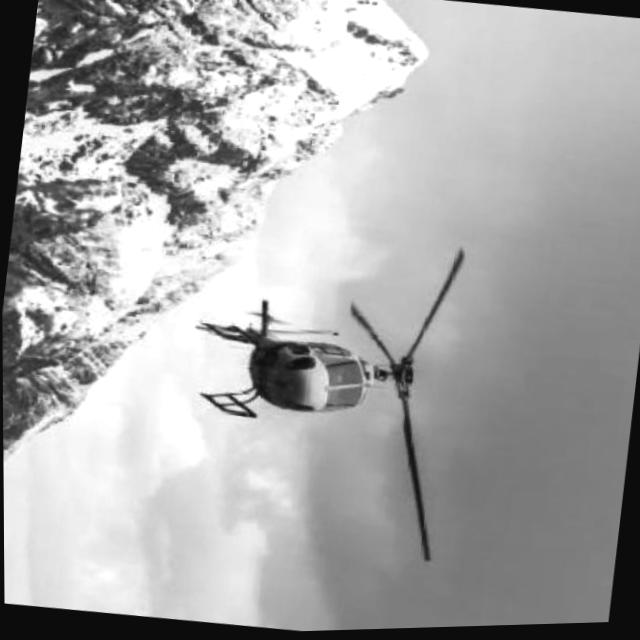helikopter: (153, 210, 481, 572)
